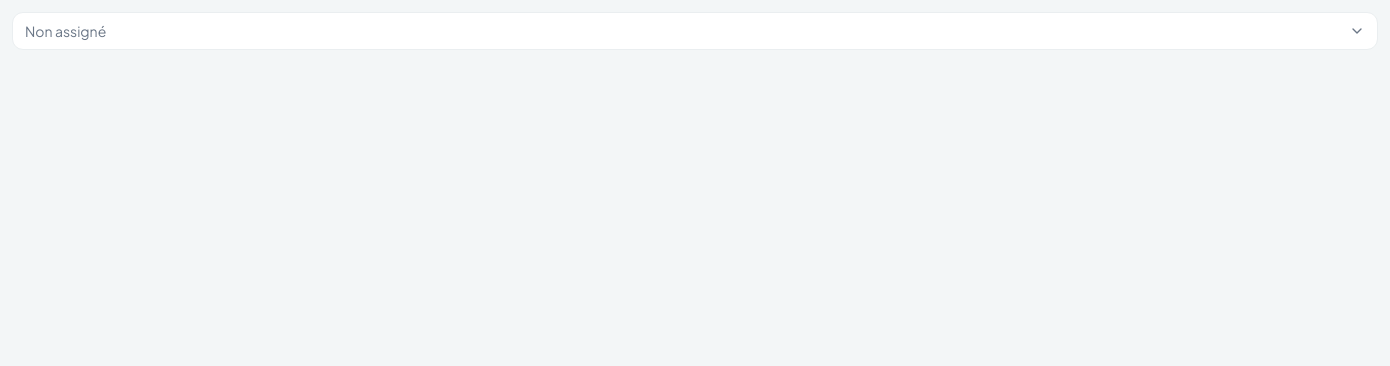
SearchableSelect — groupes › pose un intertitre par groupe présent
Click the button with aria-label "choisir le collaborateur": click(66, 31) [12,12,1378,50]
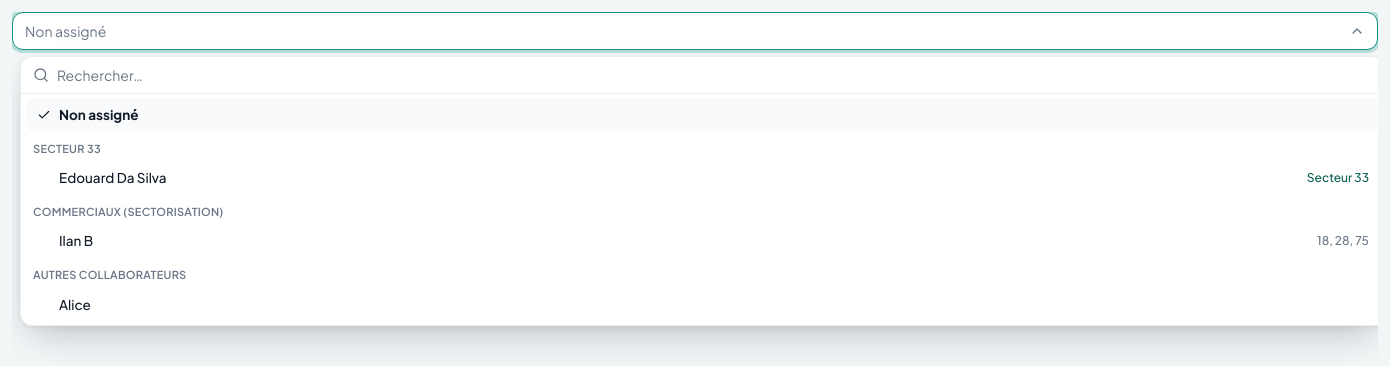
Expected: the list item "Secteur 33" is shown, [33,142,101,155]
Expected: the list item "Commerciaux (sectorisation)" is shown, [33,205,224,218]
Expected: the list item "Autres collaborateurs" is shown, [33,268,186,281]
